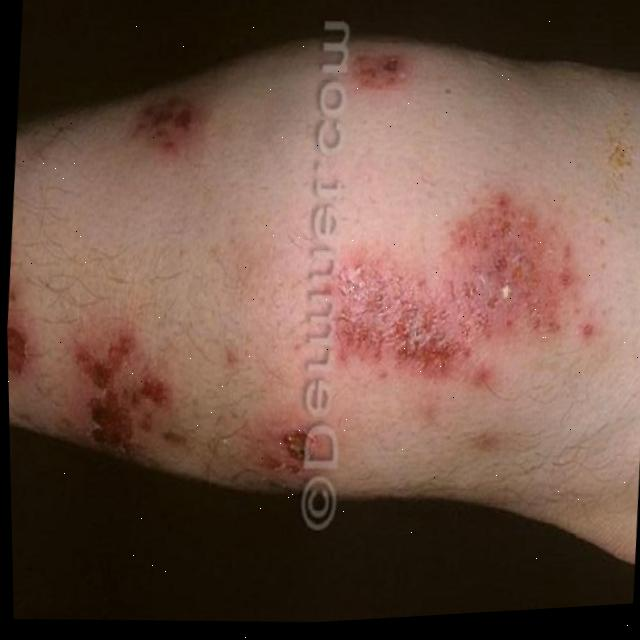Eczema: (352, 212, 579, 376), (71, 332, 188, 448), (128, 99, 216, 171), (5, 244, 47, 370), (352, 49, 408, 93), (269, 419, 305, 463)
